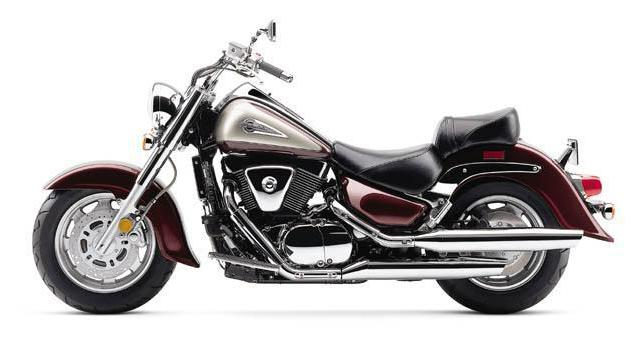motorcycle: (14, 1, 626, 327)
